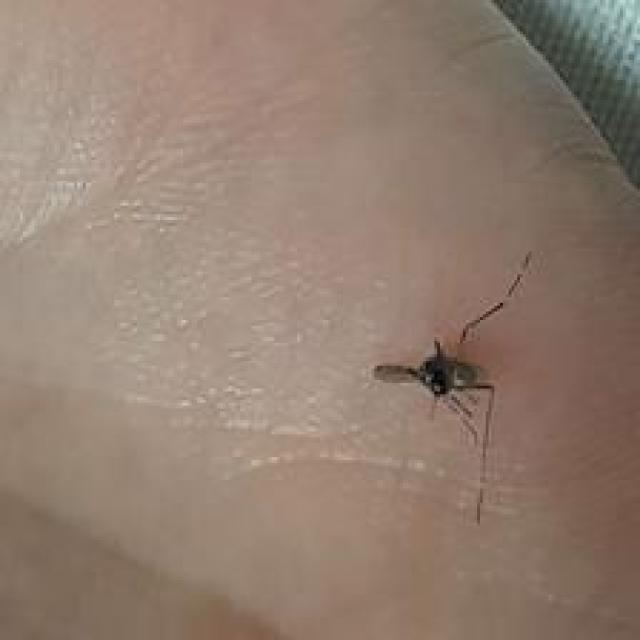Aedes albopictus: (370, 250, 533, 524)
